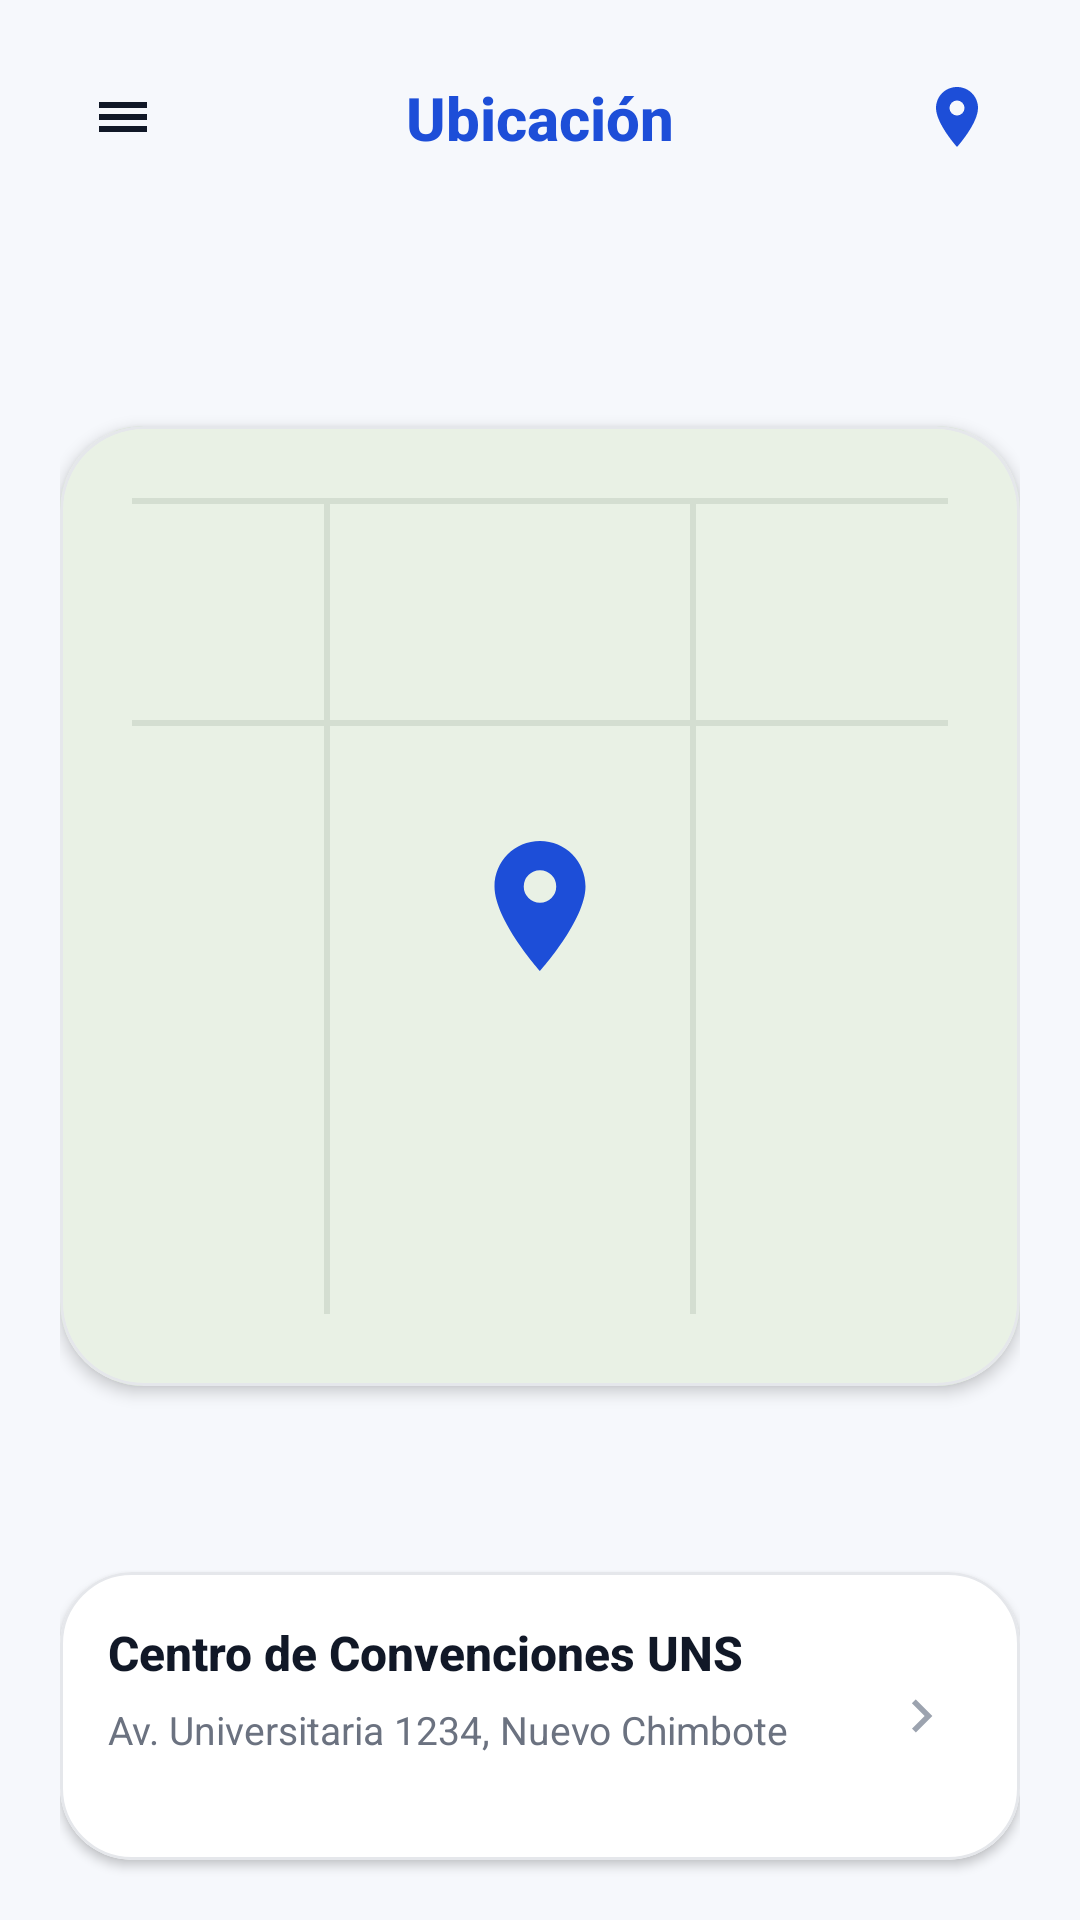

Named icons in this screenshot (1080x1920) and their bounding boxes, (x1, y1, x2, y2):
Abrir menú: (99, 102, 147, 132)
Ver detalle: (912, 1699, 932, 1732)
